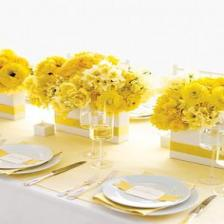yellow: (69, 56, 146, 146), (27, 52, 104, 107), (152, 77, 224, 132), (0, 49, 29, 93), (53, 83, 90, 111)
